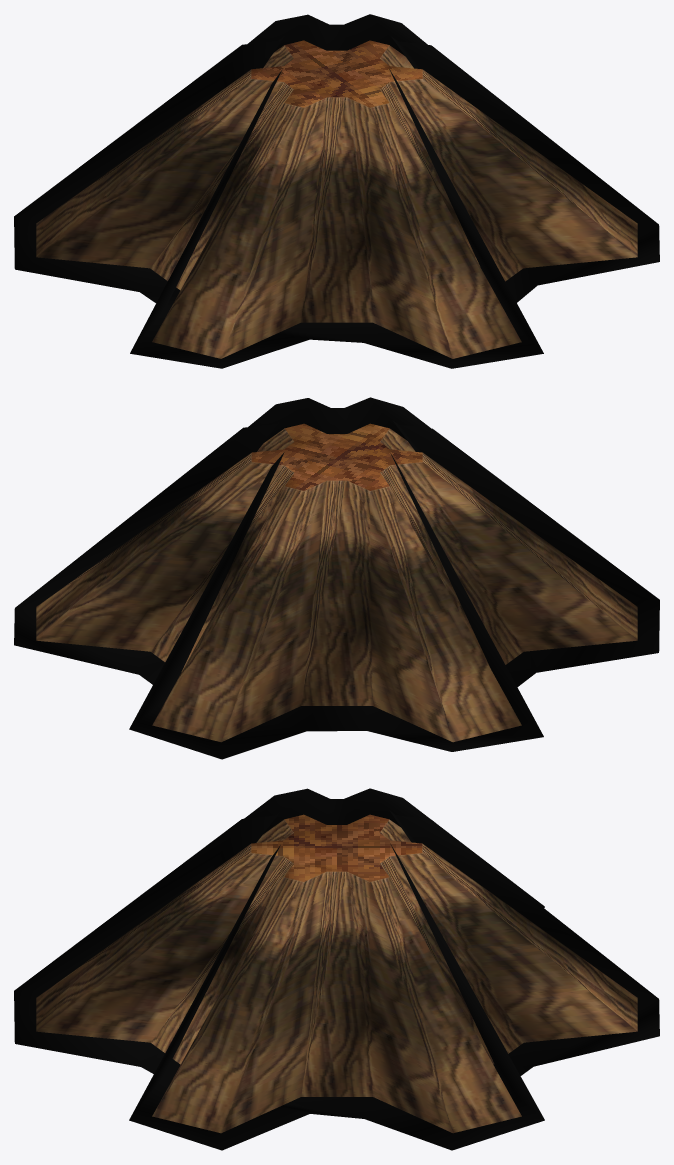
Rendered from INST_SWORDLIGHT_GEARPICKUP.fbx.
3 views of the same model, one above another, from view 1: azimuth 30°, elevation 25°; view 2: azimuth 150°, elevation 25°; view 3: azimuth 270°, elevation 25° (orthographic).
Visible parts, largest first — view 1: INST_SWORDLIGHT_GEARPICKUP; view 2: INST_SWORDLIGHT_GEARPICKUP; view 3: INST_SWORDLIGHT_GEARPICKUP.
Boxes of the visible parts, x1,y1,x2,y2 form: INST_SWORDLIGHT_GEARPICKUP: [14, 14, 659, 368]; INST_SWORDLIGHT_GEARPICKUP: [14, 397, 659, 759]; INST_SWORDLIGHT_GEARPICKUP: [14, 788, 659, 1150].
Size of the model in its own units: 7685 by 2886 by 8122.
2 materials, 2 textured.
